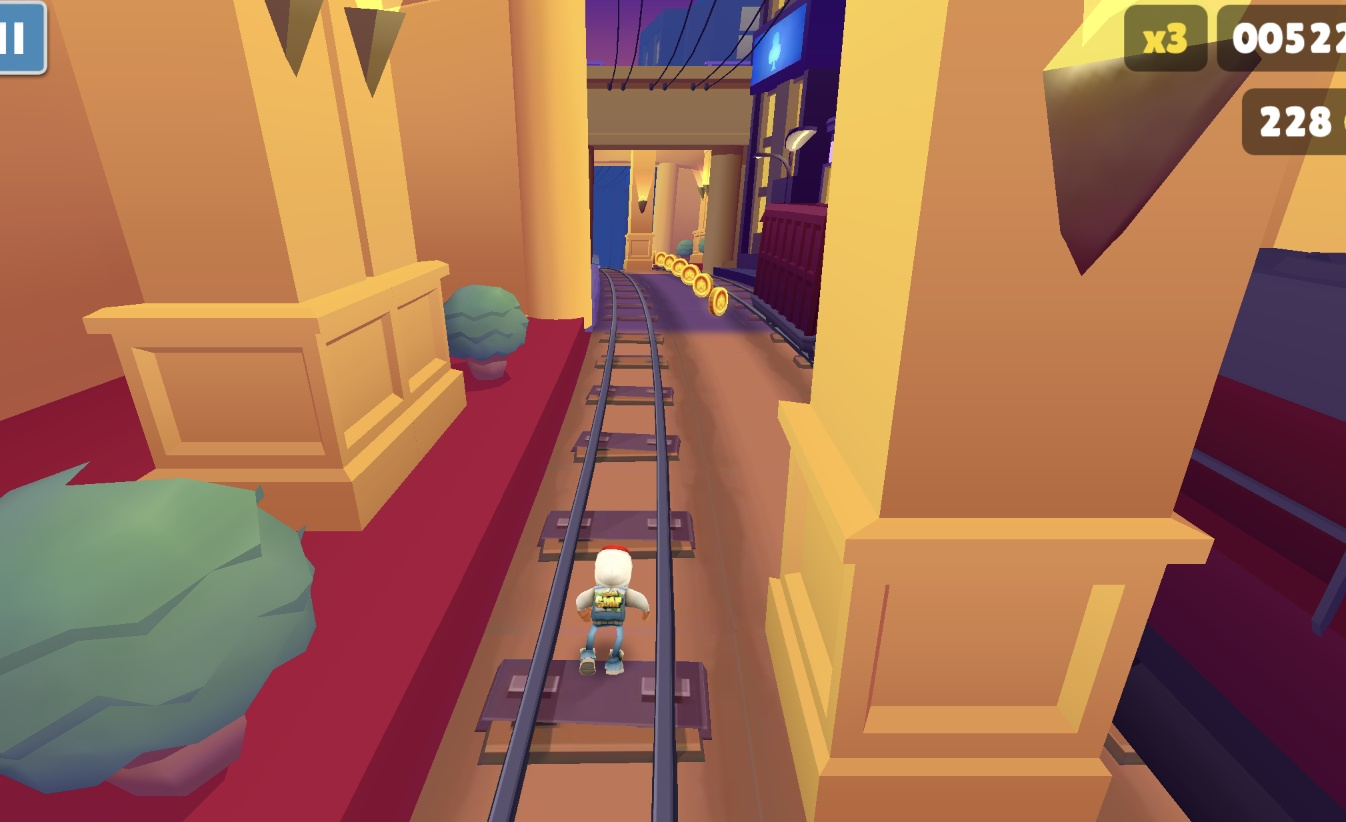pillar: (772, 0, 1346, 820), (626, 148, 664, 272)
train: (1260, 236, 1346, 822), (748, 202, 828, 354)
